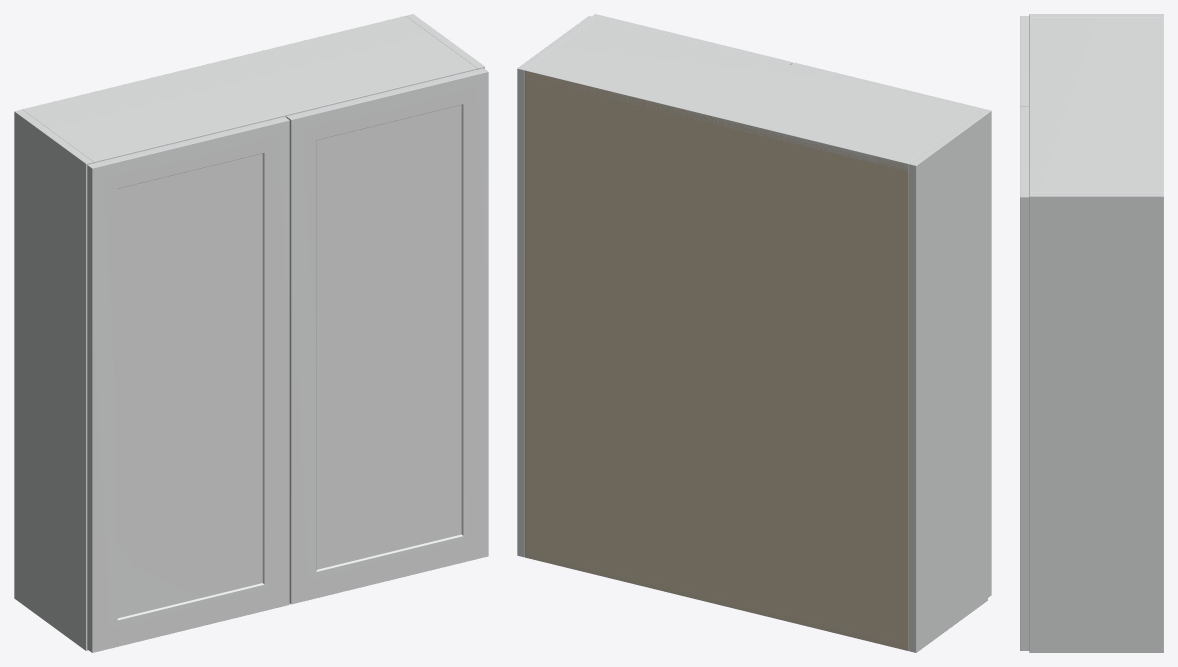
Rendered from PLY-WSS-W3642.glb.
The picture shows the model from 3 angles, left to right: view 1: azimuth 30°, elevation 25°; view 2: azimuth 150°, elevation 25°; view 3: azimuth 270°, elevation 25°; orthographic projection. The views are drawn at different scales.
Parts seen in each view (by area): view 1: Shaker door, Shaker door.001, Carcass left, Carcass top; view 2: Carcass back, Carcass left, Carcass top, Carcass right, Carcass bottom, Shaker door, Shaker door.001; view 3: Carcass right, Carcass top, Shaker door.001, Shaker door, Carcass left.
Boxes of the visible parts, <box> form: Shaker door: <box>87,116,289,652</box>; Shaker door.001: <box>286,68,488,604</box>; Carcass left: <box>14,109,93,650</box>; Carcass top: <box>22,16,476,162</box>; Carcass back: <box>525,70,908,650</box>; Carcass left: <box>908,111,987,652</box>; Carcass top: <box>525,18,979,171</box>; Carcass right: <box>517,16,595,557</box>; Carcass bottom: <box>525,550,908,650</box>; Shaker door: <box>791,62,991,597</box>; Shaker door.001: <box>592,14,792,64</box>; Carcass right: <box>1029,193,1163,652</box>; Carcass top: <box>1029,17,1163,192</box>; Shaker door.001: <box>1020,106,1029,650</box>; Shaker door: <box>1020,16,1029,106</box>; Carcass left: <box>1029,14,1163,17</box>.
Size of the model in its own units: 0.9144 by 1.07 by 0.3048.
